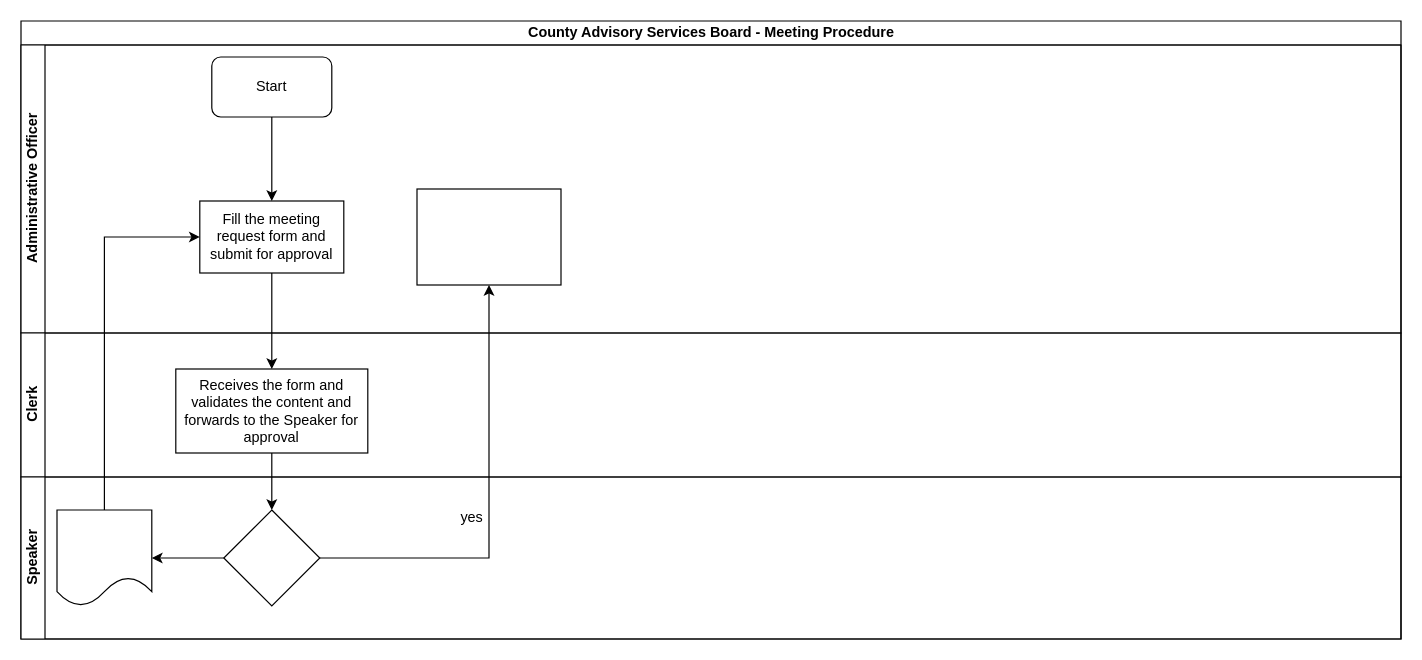
Some shapes in this 1422 by 660 pixel diagram are drawn without their labels. The shapes that lost their labels are listed below. From the top down, each one's centre as x and y in pixels, then its label:
(488,236): Notification auto-generated and forwarded to the CASB members and the initiator
(104,557): notification to initiator
(271,557): Approved?
